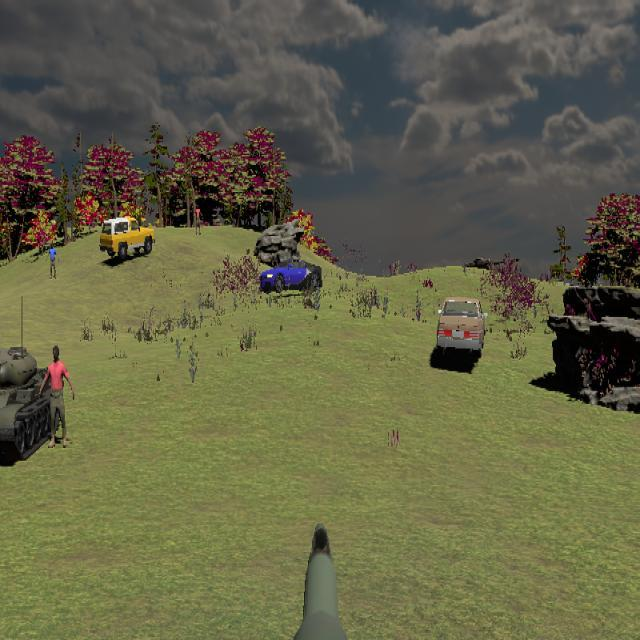Human: (39, 345, 75, 450)
Tank: (0, 345, 72, 463)
car: (436, 296, 487, 362), (259, 257, 323, 296), (100, 216, 154, 260)
